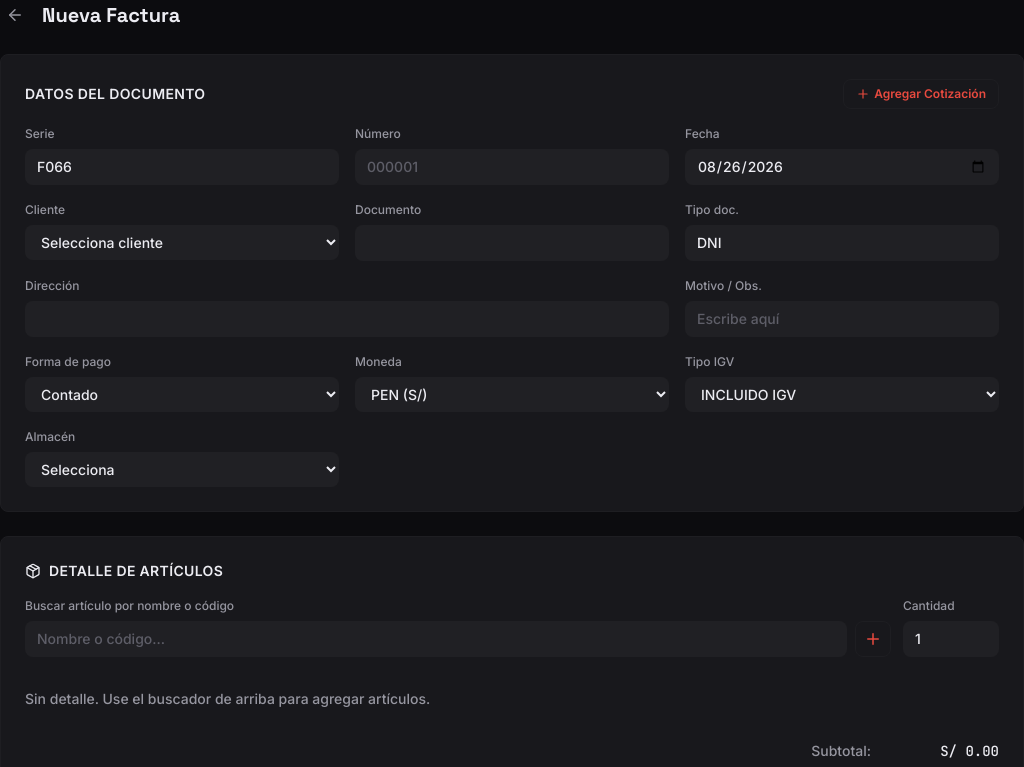
Agregar Cotización en ventas de artículos › Factura: carga ítems y datos del cliente desde una cotización de artículos
Click the button "Agregar Cotización" at {"x": 921, "y": 94}, box [843,79,999,109]
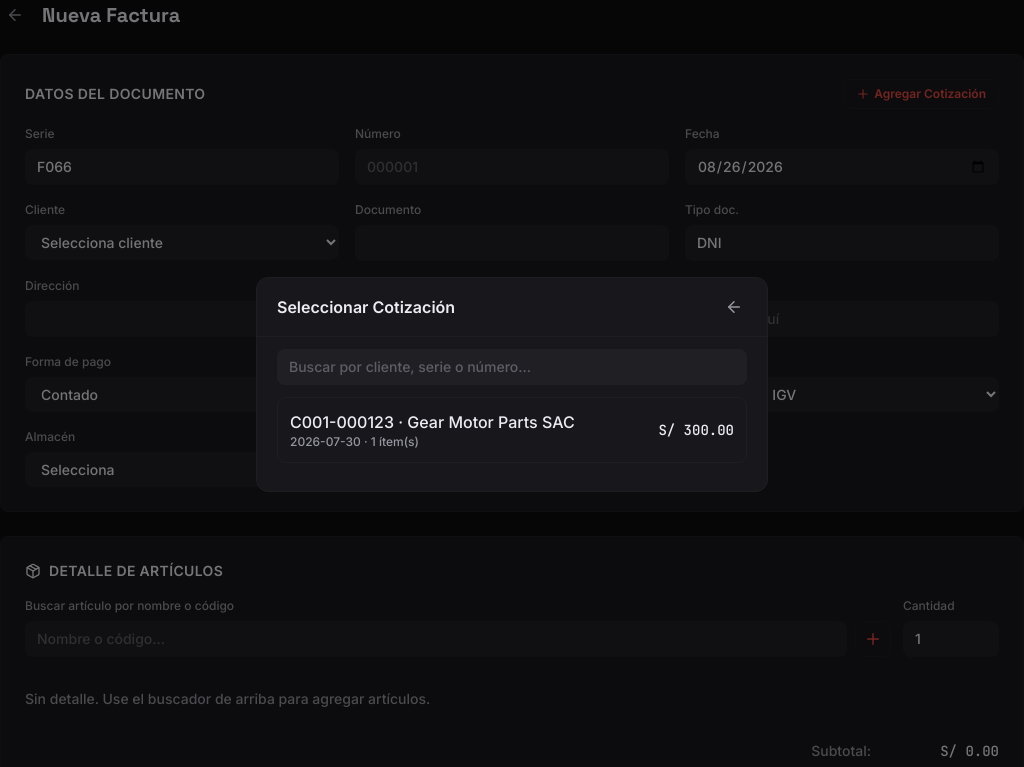
Now the heading "Seleccionar Cotización" is shown, box [277,294,455,318]
Click the text "C001-000123 · Gear Motor Parts SAC" at {"x": 432, "y": 422}, box [290,410,575,434]
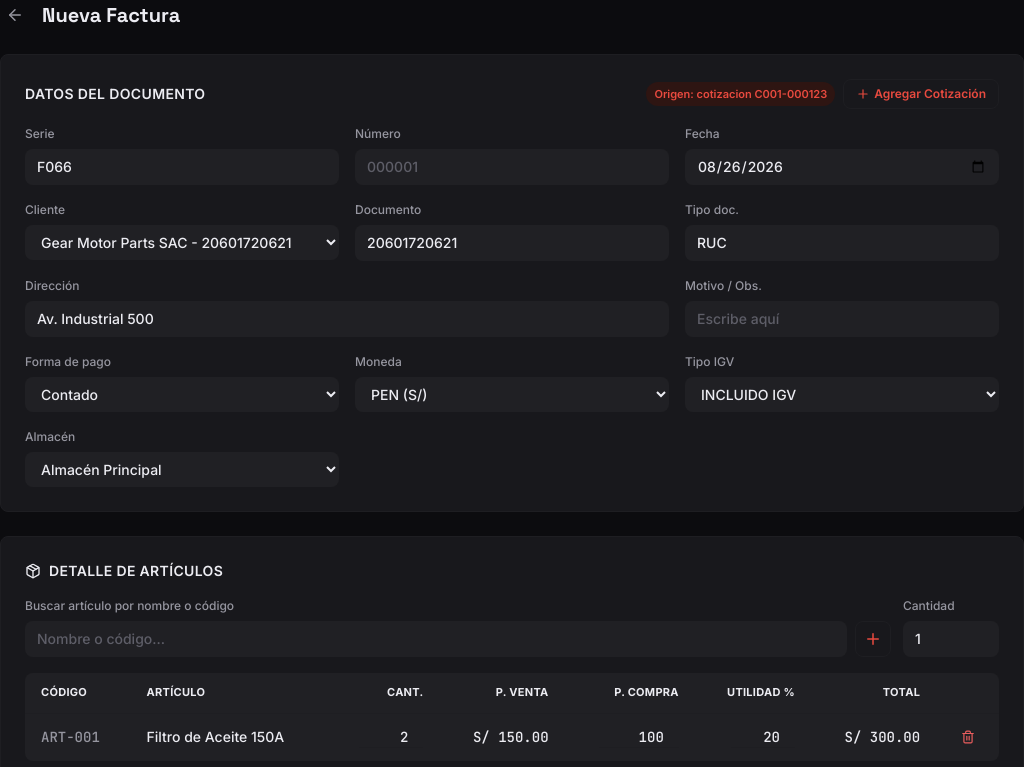
Now the text "Filtro de Aceite 150A" is shown, box [131,713,328,761]
Now the cell "ART-001" is shown, box [25,713,131,761]
Now the cell "S/ 150.00" is shown, box [440,713,565,761]
